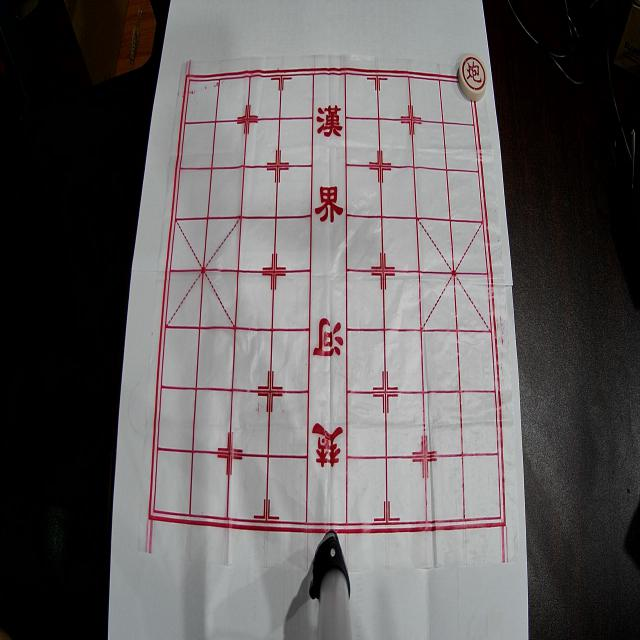red-cannon: (458, 54, 488, 100)
